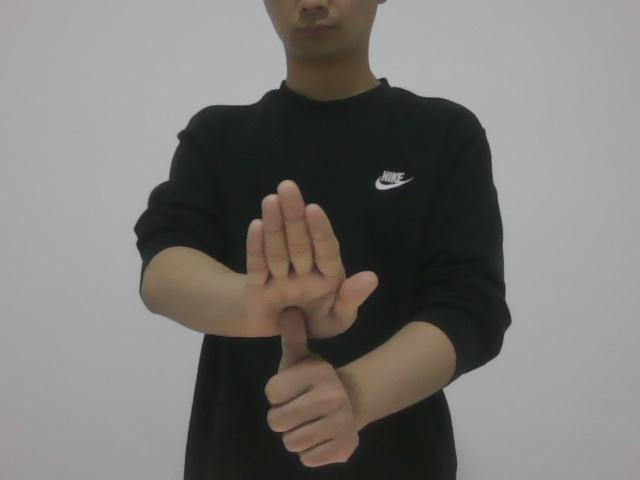love: (225, 177, 384, 471)
